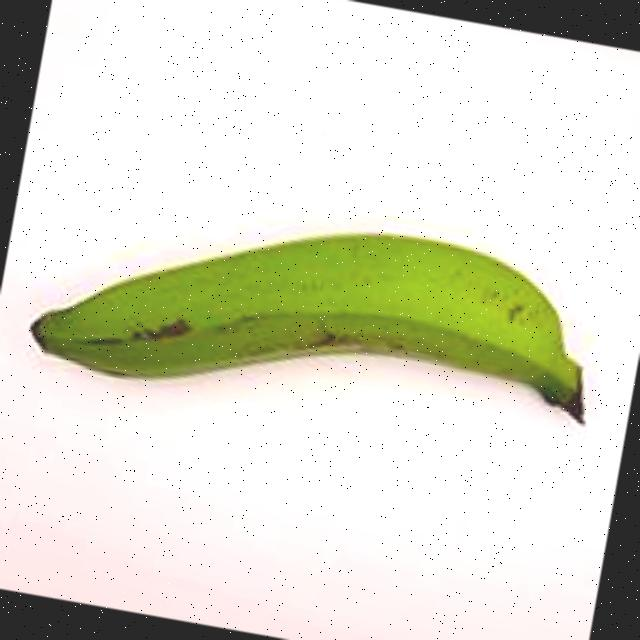Raw: (4, 147, 632, 484)
